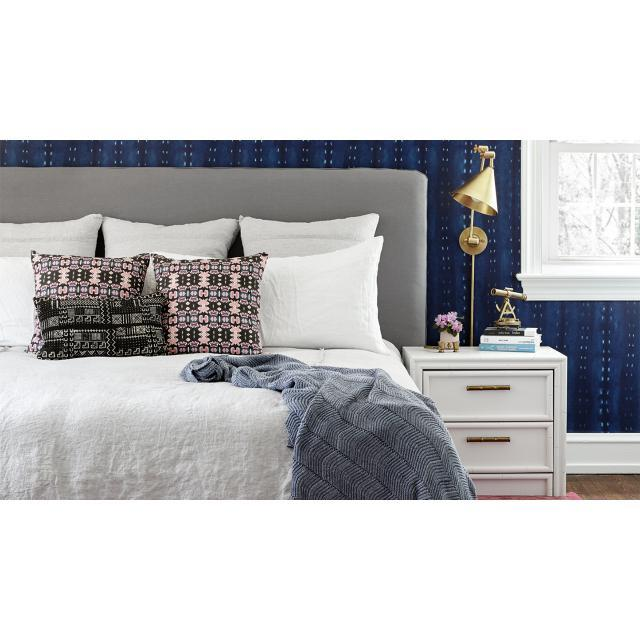lamp: (452, 145, 498, 346)
pillow: (262, 238, 388, 355), (152, 252, 268, 354), (32, 295, 168, 360), (29, 248, 148, 294)
table: (404, 346, 566, 494)
